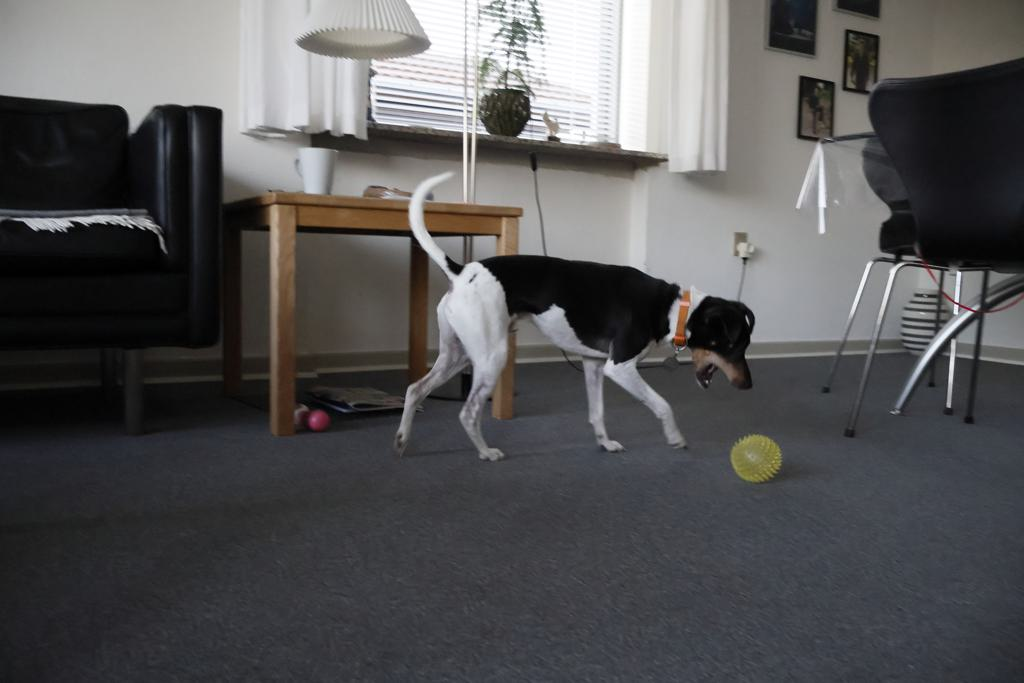Dog: (379, 169, 774, 468)
